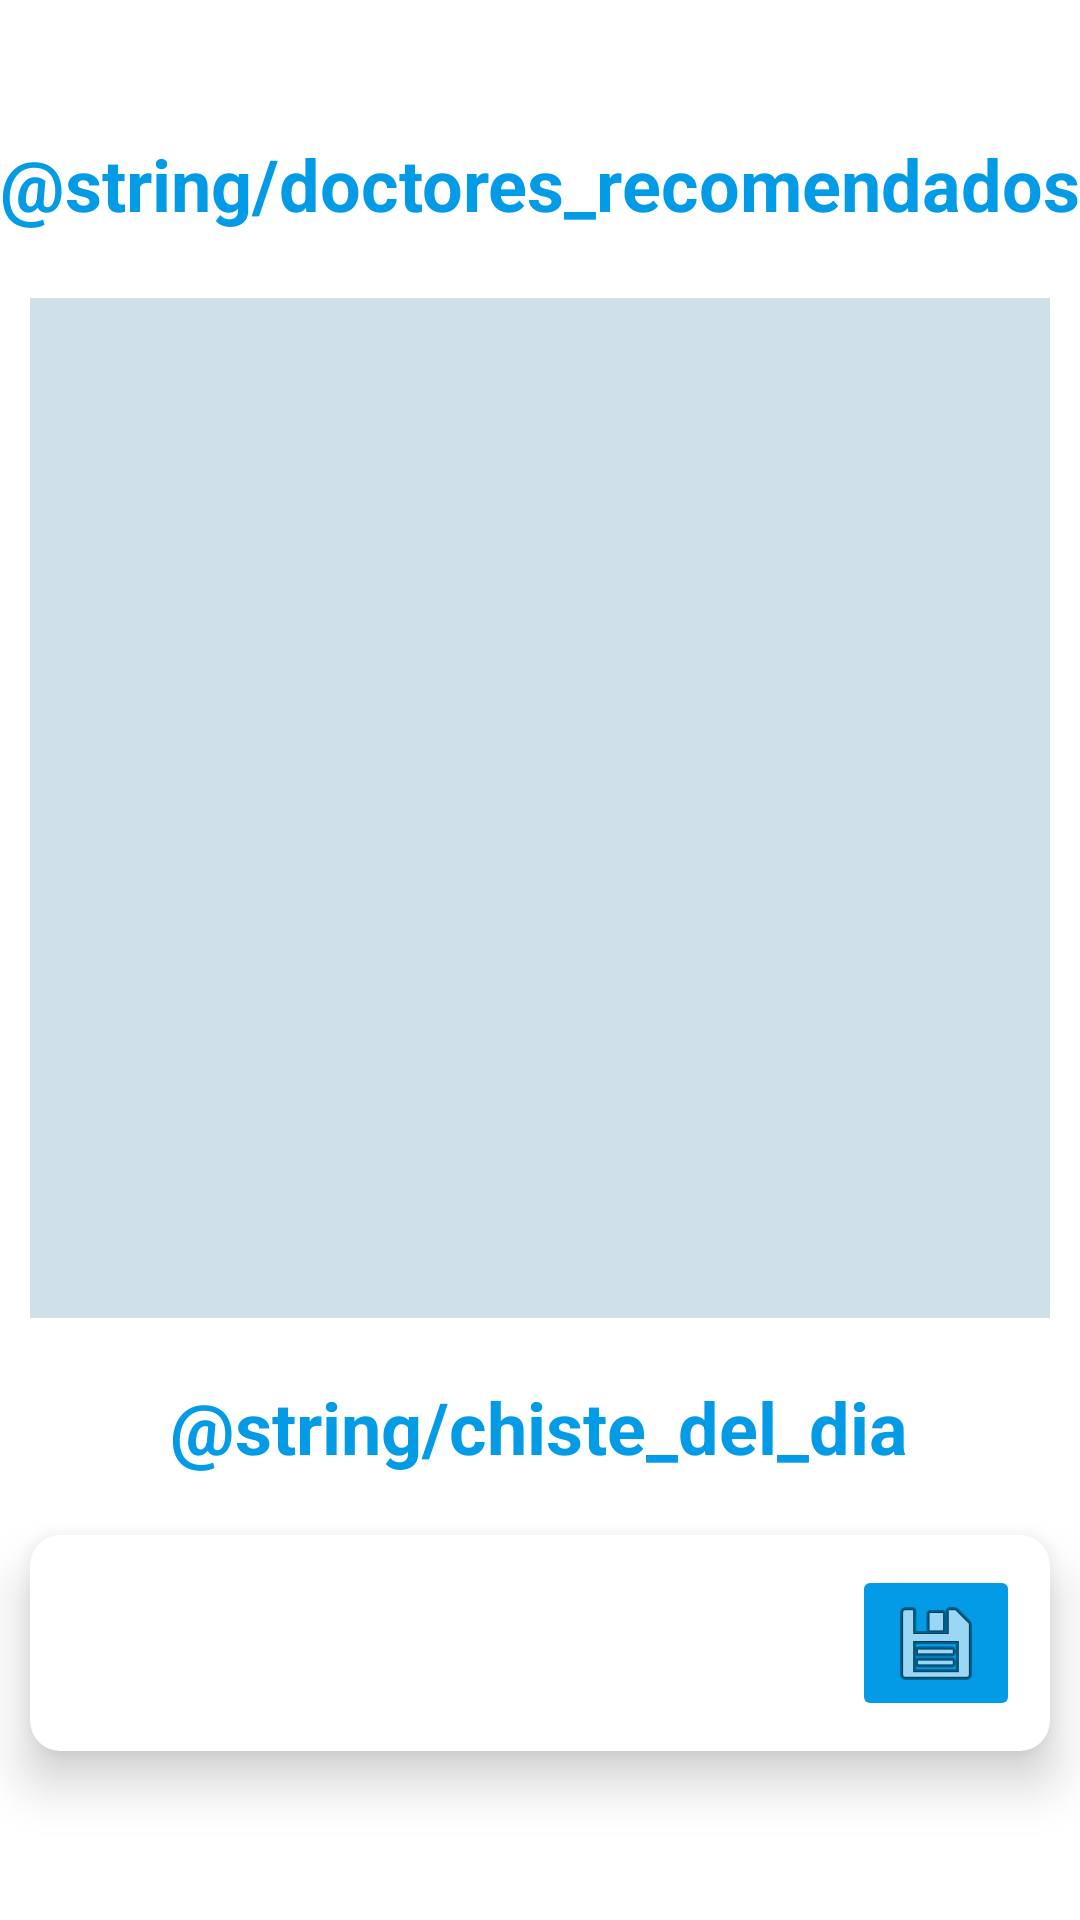

Named icons in this screenshot (1080*1920) and their bounding boxes, BBox(x1, y1, x2, y2):
save: BBox(864, 1583, 1008, 1703)
